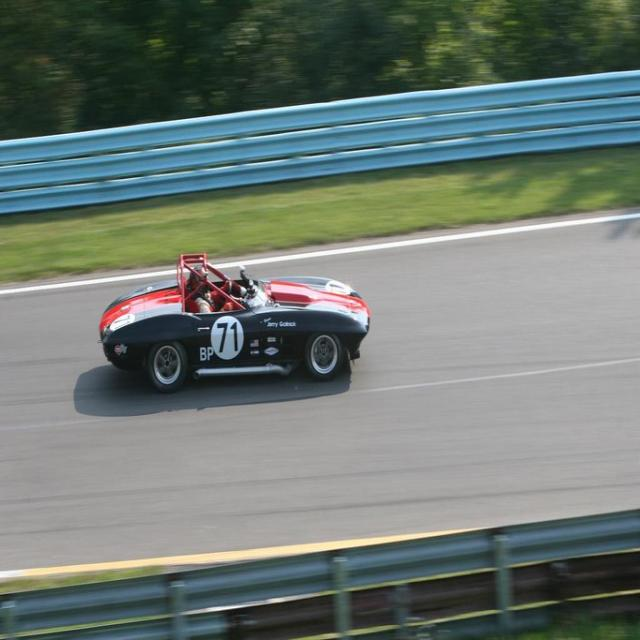car: (98, 245, 376, 402)
